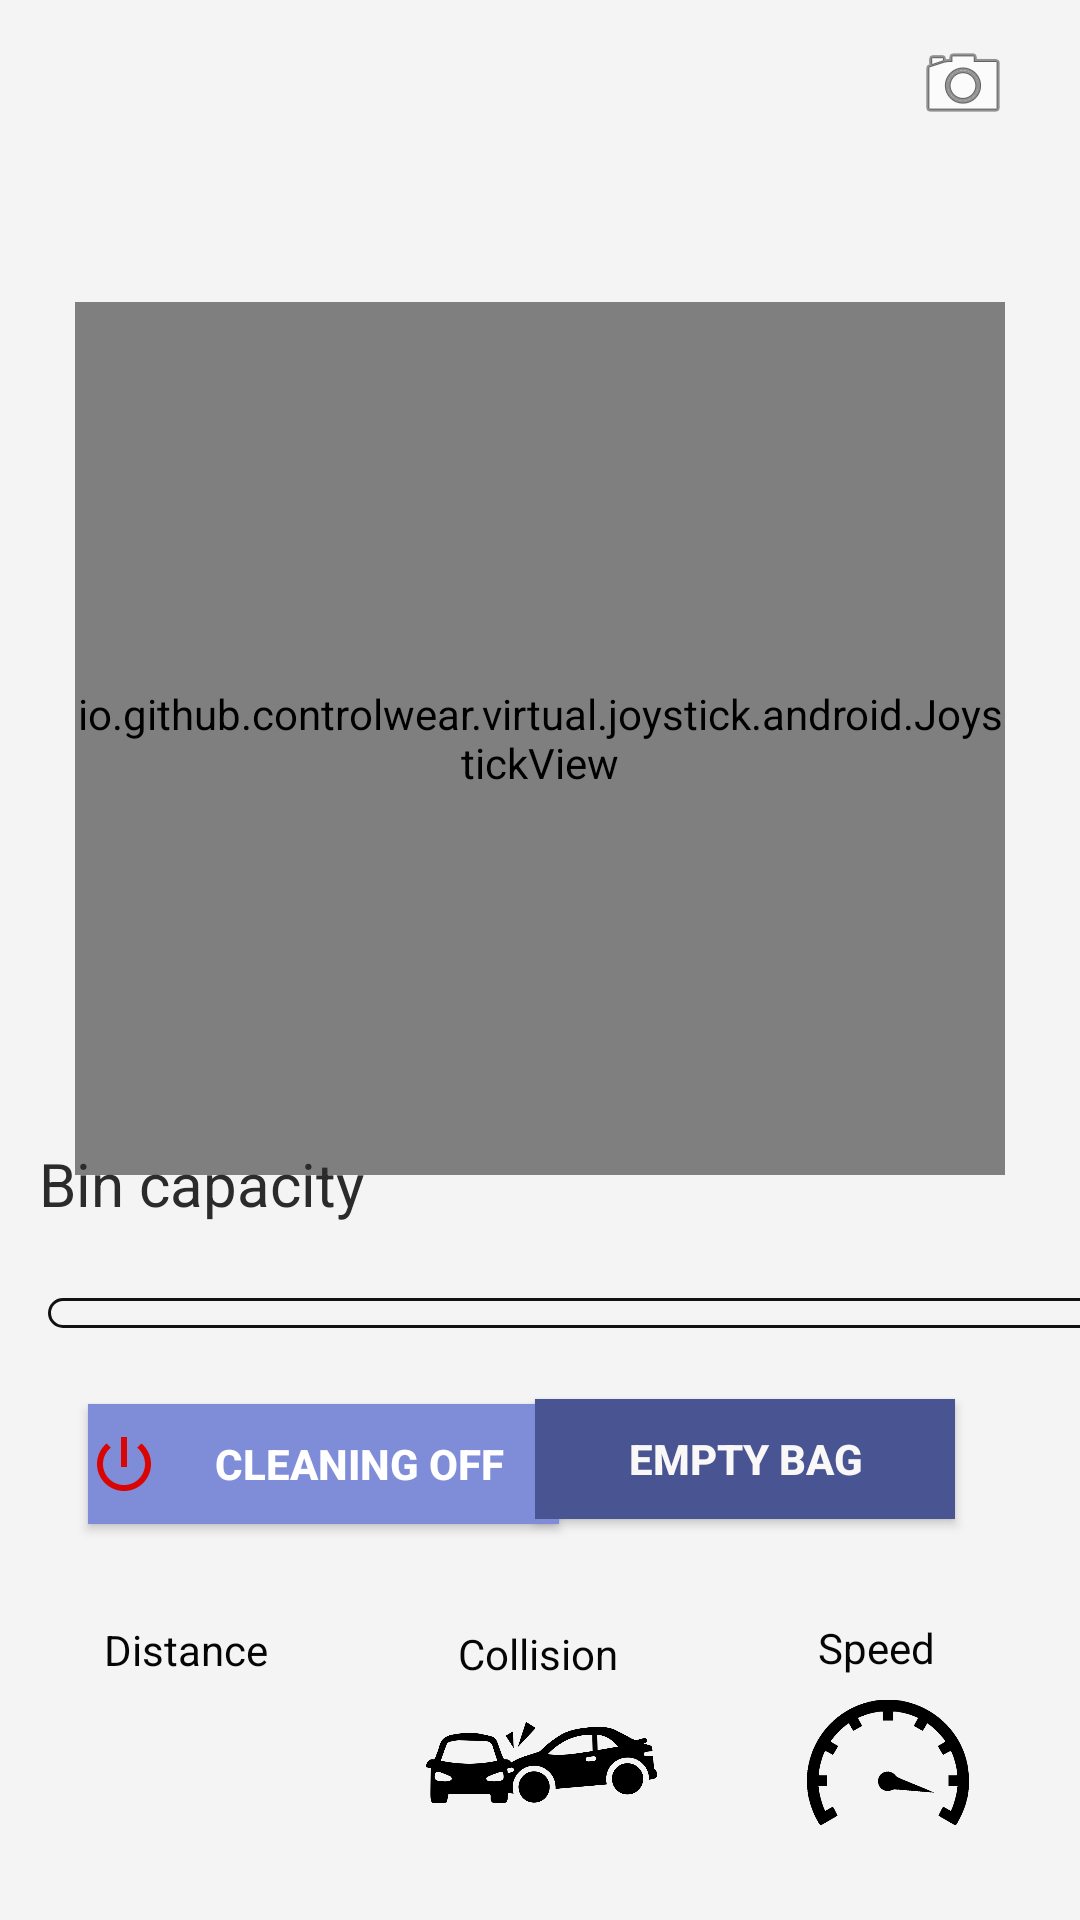

Named icons in this screenshot (1080×1920) and their centers, (x=x, y=y):
camera: (x=963, y=82)
